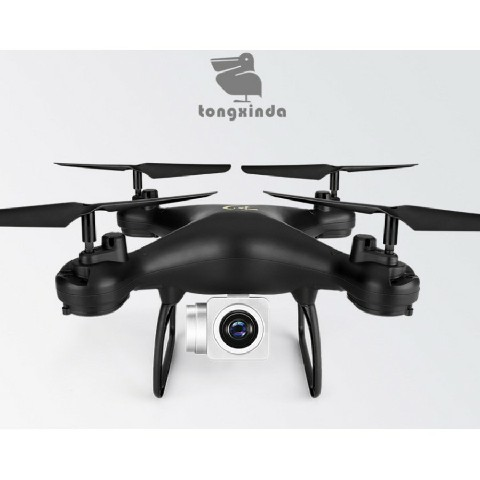maybay_khongnguoilai: (7, 147, 467, 403)
